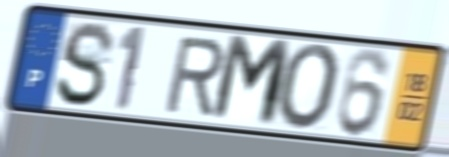1: (114, 24, 149, 115)
6: (335, 44, 391, 141)
M: (207, 31, 296, 132)
O: (274, 41, 344, 135)
R: (161, 34, 228, 117)
S: (52, 19, 118, 111)
